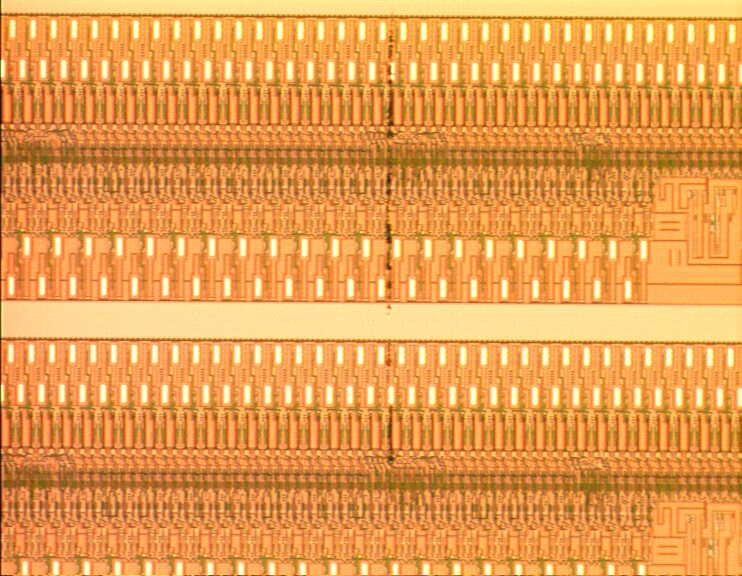SCRATCH: (381, 1, 404, 472)
